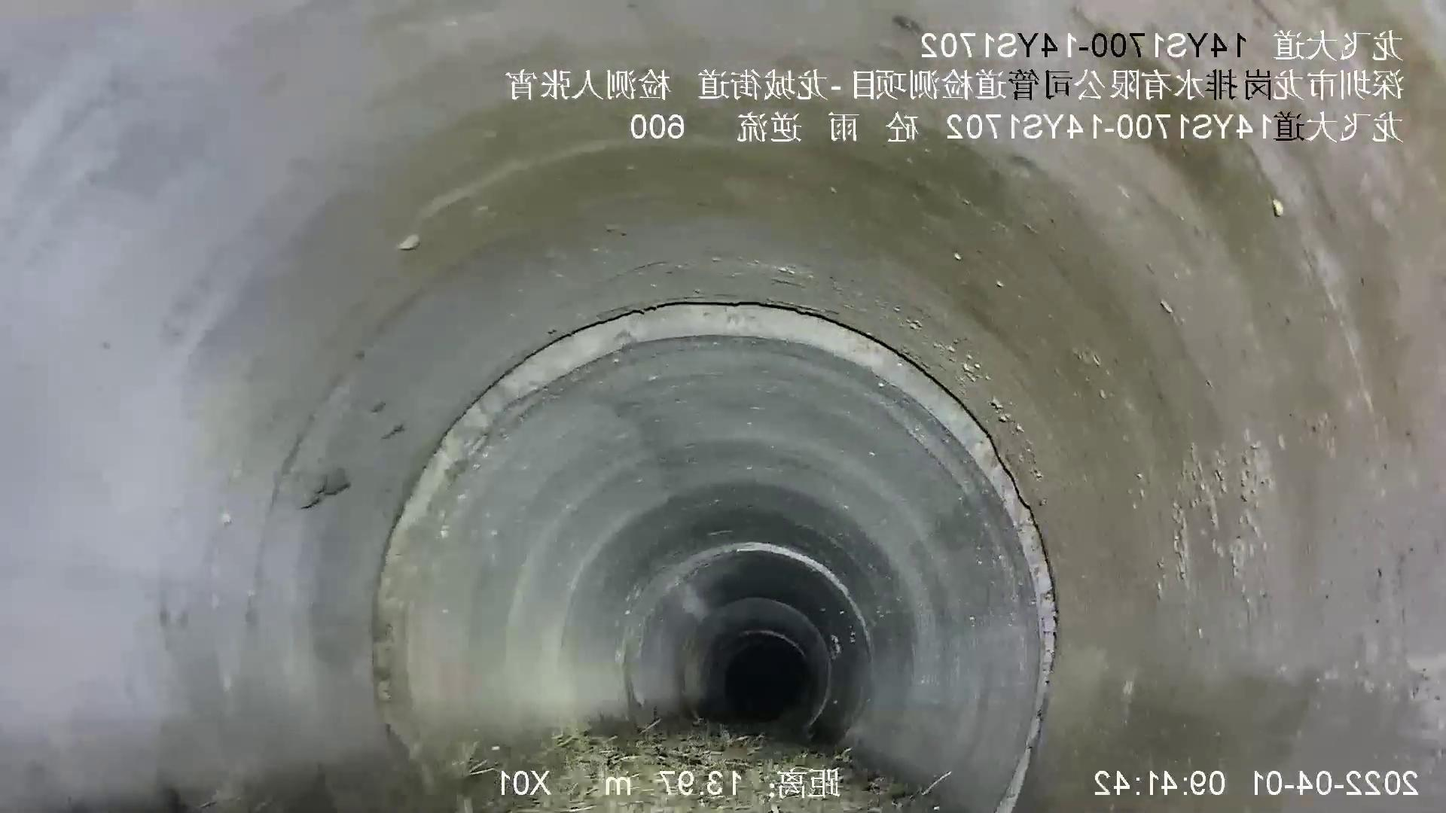CJ: (453, 722, 937, 812)
CKTJ: (373, 303, 1057, 812), (645, 541, 869, 635)
